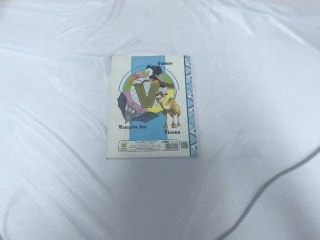book: (102, 51, 211, 161)
